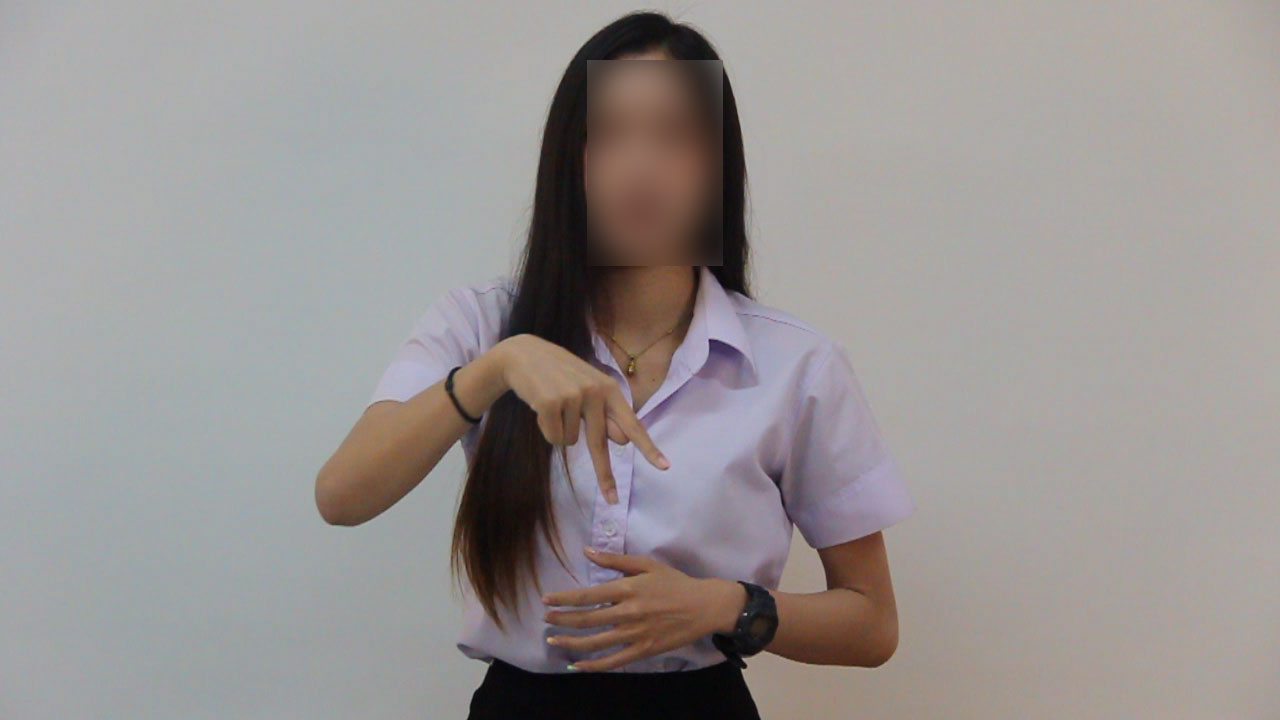por: (487, 319, 681, 511)
